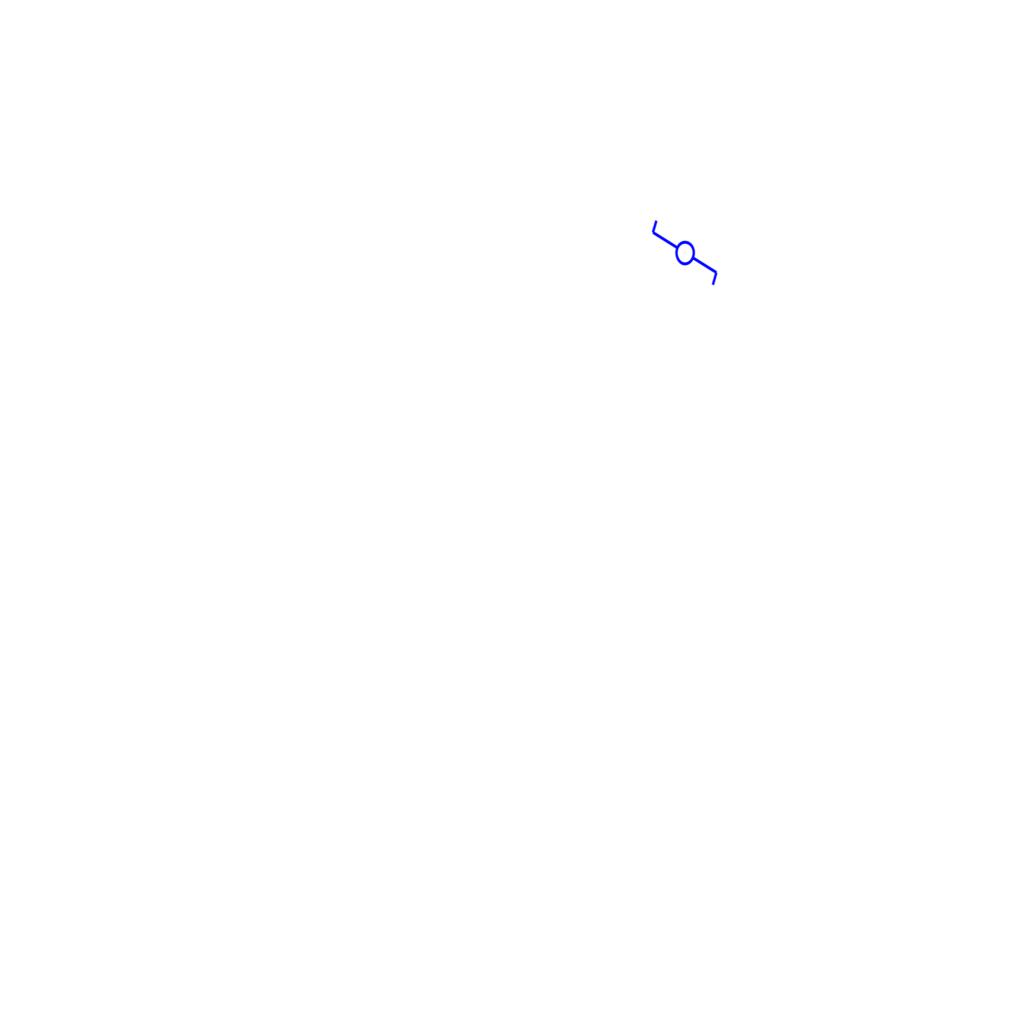Wechselschalter: (648, 218, 720, 296)
